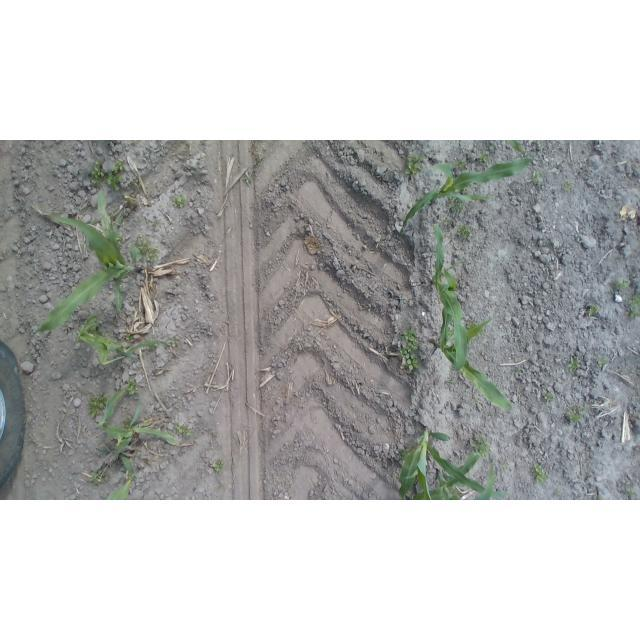Maize: (31, 188, 141, 336), (427, 257, 517, 413), (397, 155, 537, 238), (97, 384, 180, 500), (398, 425, 514, 500), (428, 223, 470, 374), (77, 312, 176, 369), (412, 453, 496, 500), (505, 140, 532, 154)
Weeds: (396, 328, 422, 371), (132, 235, 160, 265), (466, 437, 492, 460), (530, 461, 554, 485), (87, 392, 109, 418), (90, 155, 106, 187), (566, 402, 588, 425), (405, 153, 425, 176), (627, 292, 640, 320), (612, 277, 632, 295), (106, 173, 123, 193), (88, 469, 109, 485), (173, 424, 193, 440), (125, 379, 142, 397), (529, 169, 544, 189), (543, 388, 557, 408), (457, 226, 472, 243), (110, 159, 126, 174), (211, 458, 225, 474), (445, 375, 459, 391), (443, 215, 457, 230), (449, 201, 464, 215), (586, 303, 601, 317), (121, 418, 137, 431), (559, 178, 573, 192), (595, 356, 610, 369), (568, 357, 581, 372), (171, 196, 187, 208), (625, 488, 640, 499), (243, 170, 253, 186), (169, 337, 181, 350), (479, 150, 489, 163), (255, 151, 264, 165), (150, 217, 159, 230), (471, 394, 482, 404), (458, 158, 467, 170), (115, 234, 126, 243), (128, 177, 138, 186), (502, 461, 511, 471), (124, 140, 138, 146), (515, 367, 523, 377), (596, 494, 609, 500), (366, 307, 375, 315)
